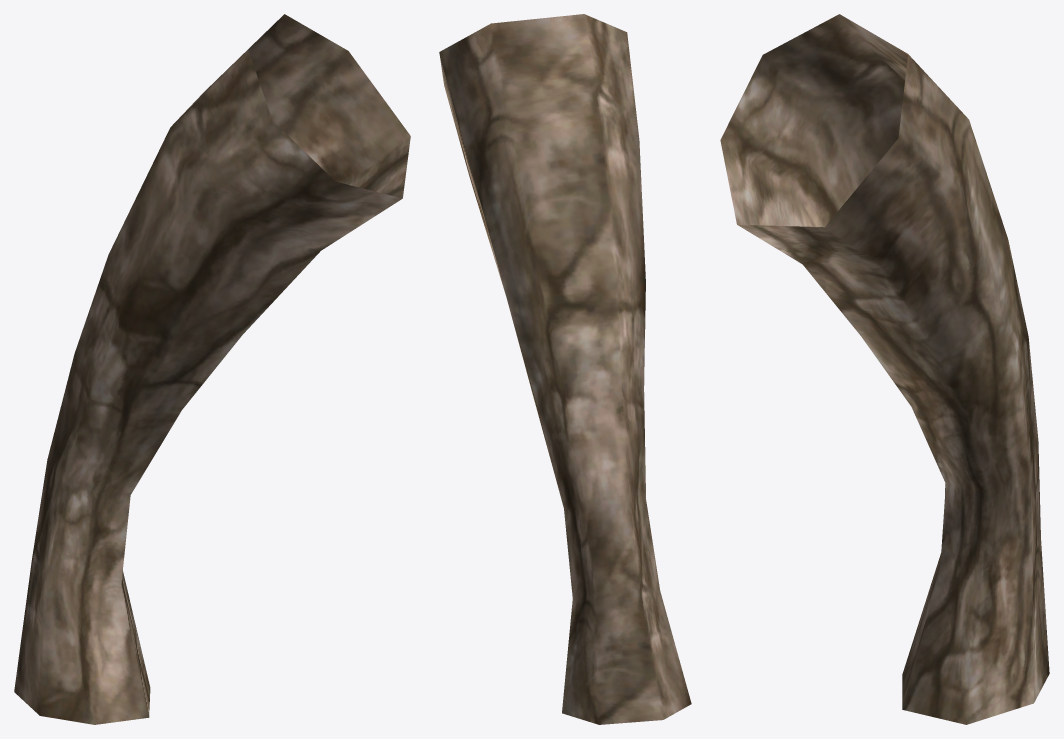
The model's file is EKH_JAIL_PS_JA_GR_CYLINDER23.fbx.
3 renders of one model, left to right at view 1: azimuth 30°, elevation 25°; view 2: azimuth 150°, elevation 25°; view 3: azimuth 270°, elevation 25°, orthographic. The views are drawn at different scales.
Visible parts, largest first — view 1: EKH_JAIL_PS_JA_GR_CYLINDER23; view 2: EKH_JAIL_PS_JA_GR_CYLINDER23; view 3: EKH_JAIL_PS_JA_GR_CYLINDER23.
Part boxes in pixels (bbox=[...]): EKH_JAIL_PS_JA_GR_CYLINDER23: bbox=[14, 14, 410, 724]; EKH_JAIL_PS_JA_GR_CYLINDER23: bbox=[439, 14, 691, 724]; EKH_JAIL_PS_JA_GR_CYLINDER23: bbox=[720, 14, 1049, 724].
Bounding box in the file's own units: 39393 × 79686 × 32427.
Materials: 1 (1 with a texture image).
